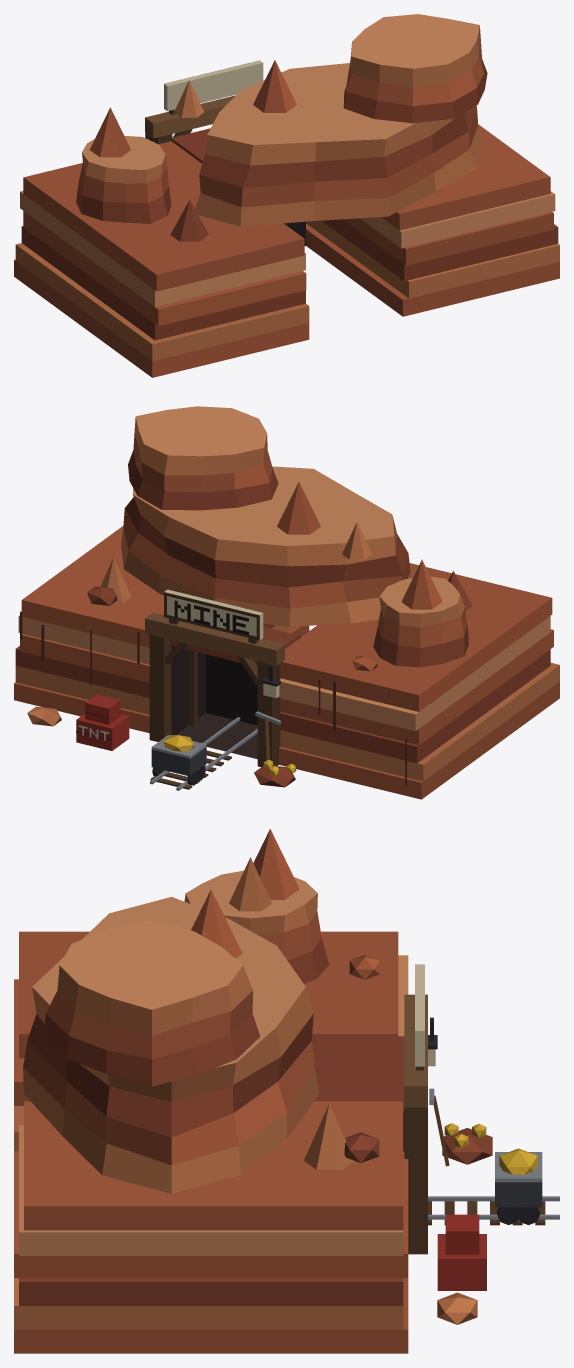
File: Decor_WesternSaloon_Mine.fbx
3 views of the same model, one above another, from view 1: azimuth 30°, elevation 25°; view 2: azimuth 150°, elevation 25°; view 3: azimuth 270°, elevation 25° (orthographic). The views are drawn at different scales.
Visible parts, largest first — view 1: Mine_Body; view 2: Mine_Body; view 3: Mine_Body.
Boxes of the visible parts, x1=… form: Mine_Body: x1=14, y1=14, x2=559, y2=377; Mine_Body: x1=14, y1=406, x2=559, y2=799; Mine_Body: x1=14, y1=829, x2=559, y2=1353.
Size of the model in its own units: 34 by 18 by 27.7.
